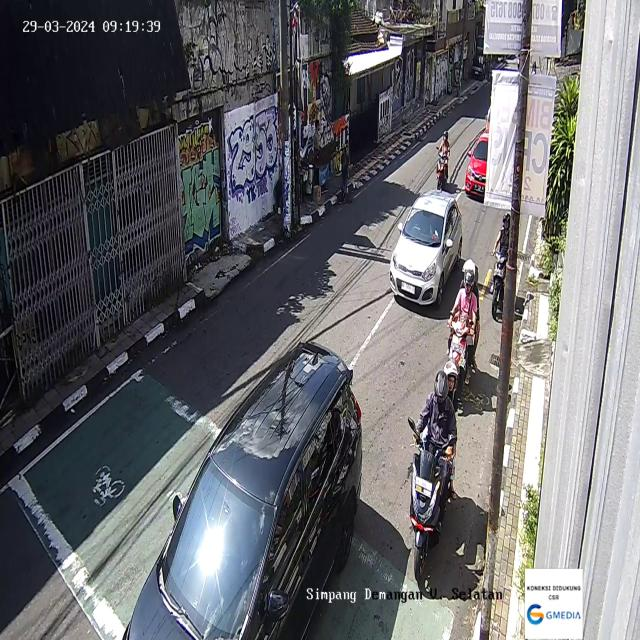car: (122, 340, 363, 640), (389, 188, 463, 307), (465, 130, 488, 202)
motorcycle: (407, 361, 461, 582), (445, 259, 481, 411), (492, 211, 511, 319), (435, 129, 450, 189)
